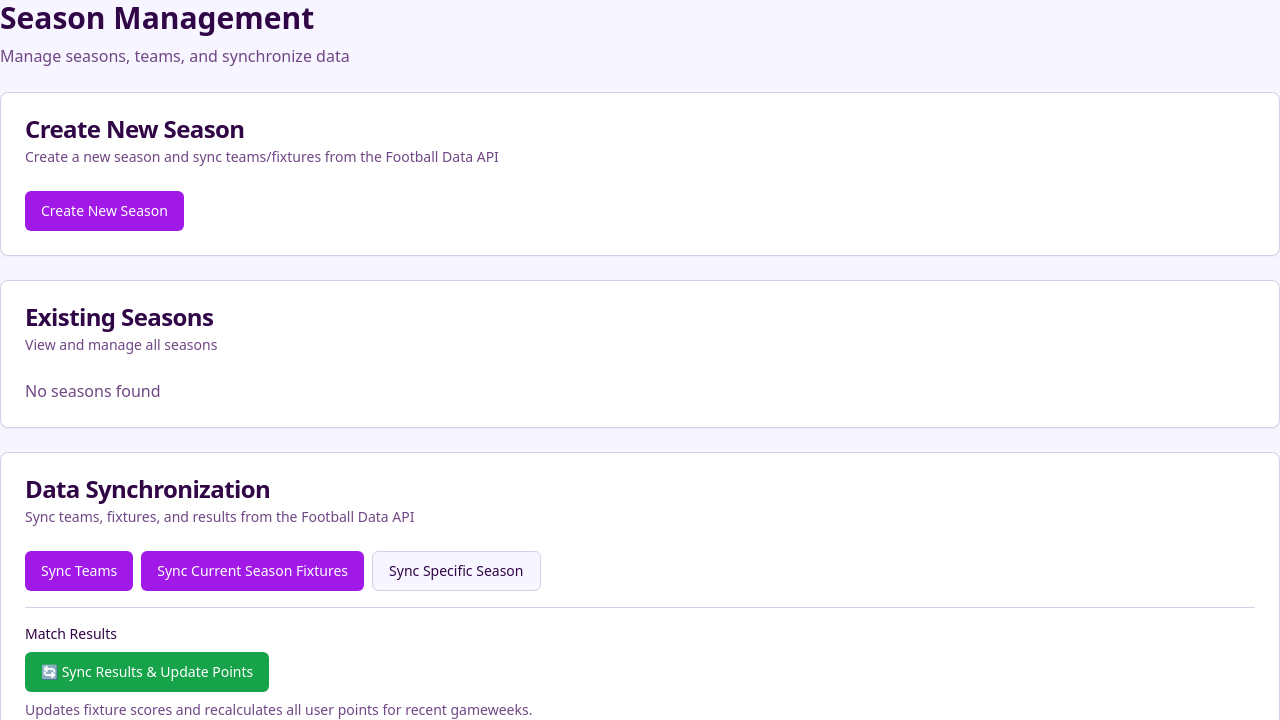
Scenario: SeasonManagementPage - Create New Season › Season Creation Flow › should show success toast after season is created
Click the button "Create New Season" at (104, 211), box [25, 191, 184, 231]
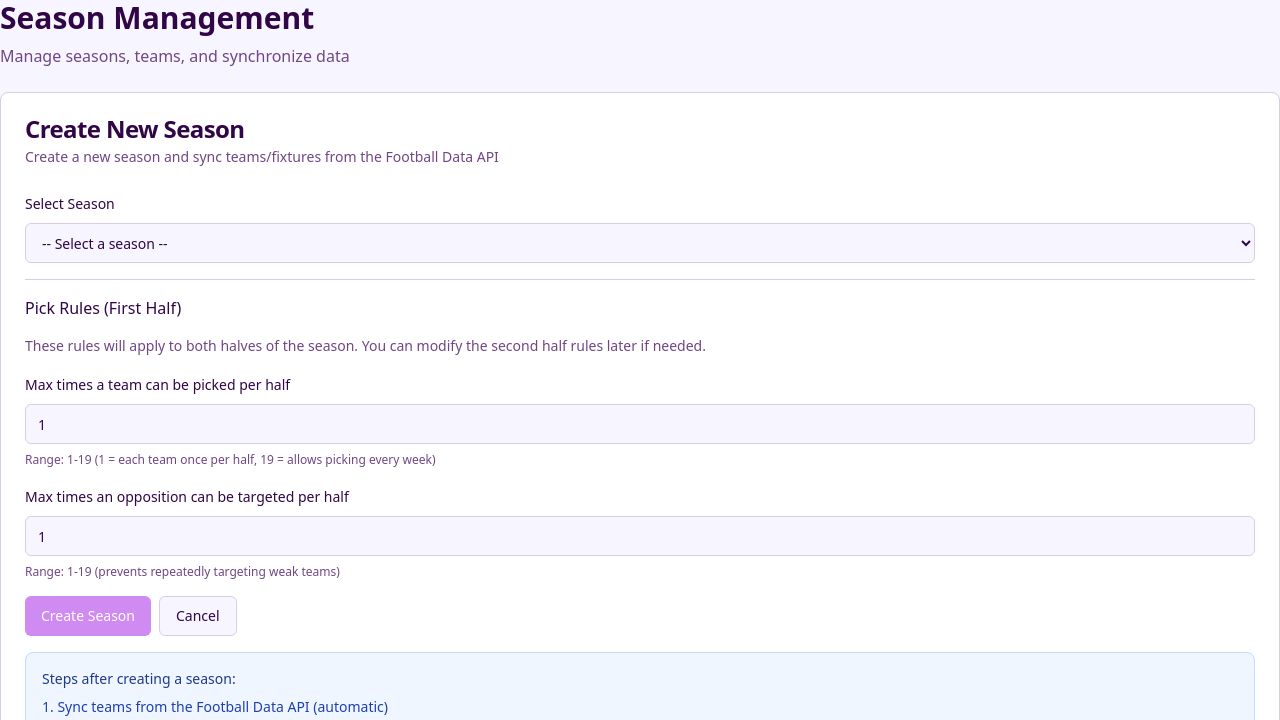
Result: the dropdown labelled "Select Season" is shown
Select "2025/2026" in the dropdown labelled "Select Season" at (640, 243), box [25, 223, 1255, 263]
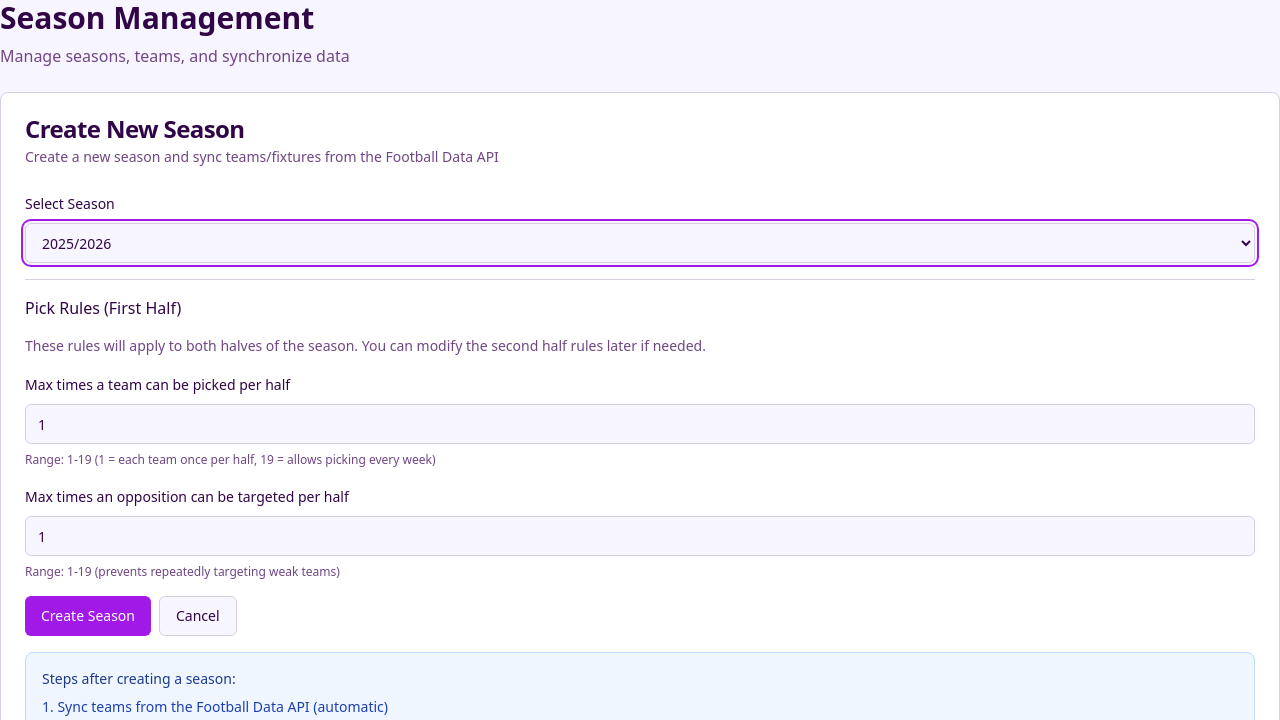
Click the button "Create Season" at (88, 616), box [25, 596, 151, 636]
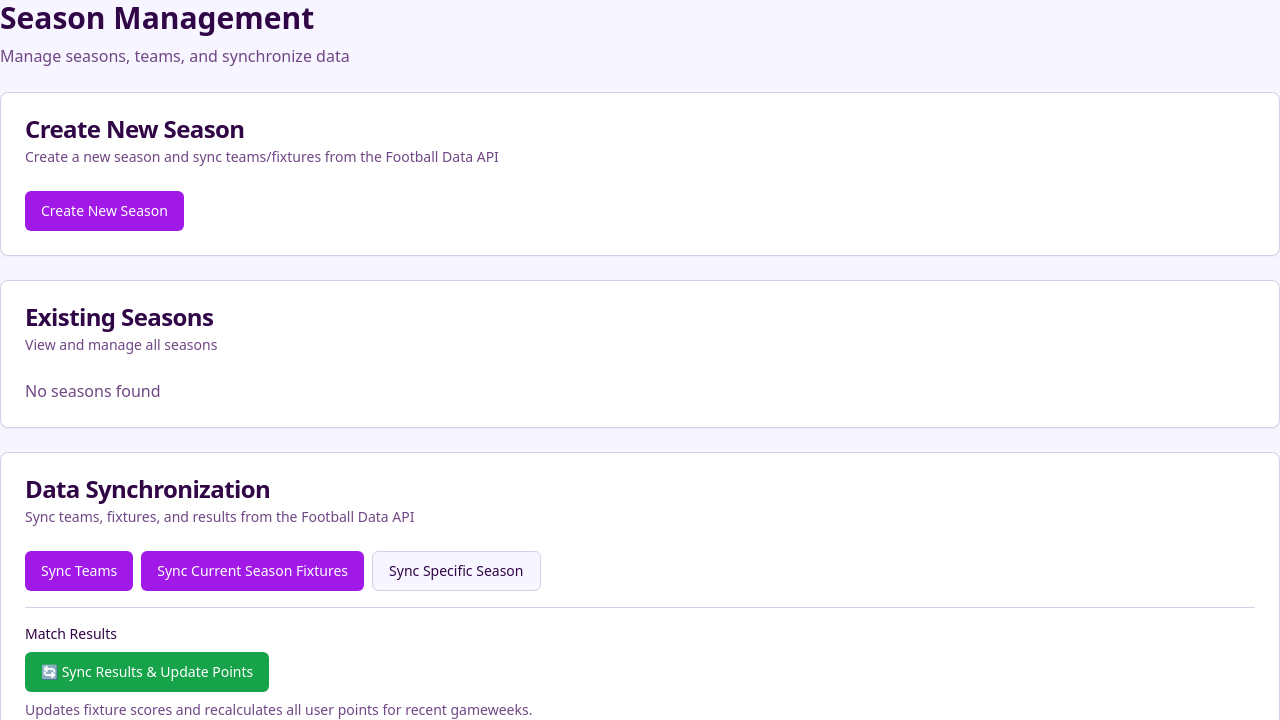
Result: the label labelled "Select Season" is gone
Result: the button "Create New Season" is shown at [25, 191, 184, 231]
